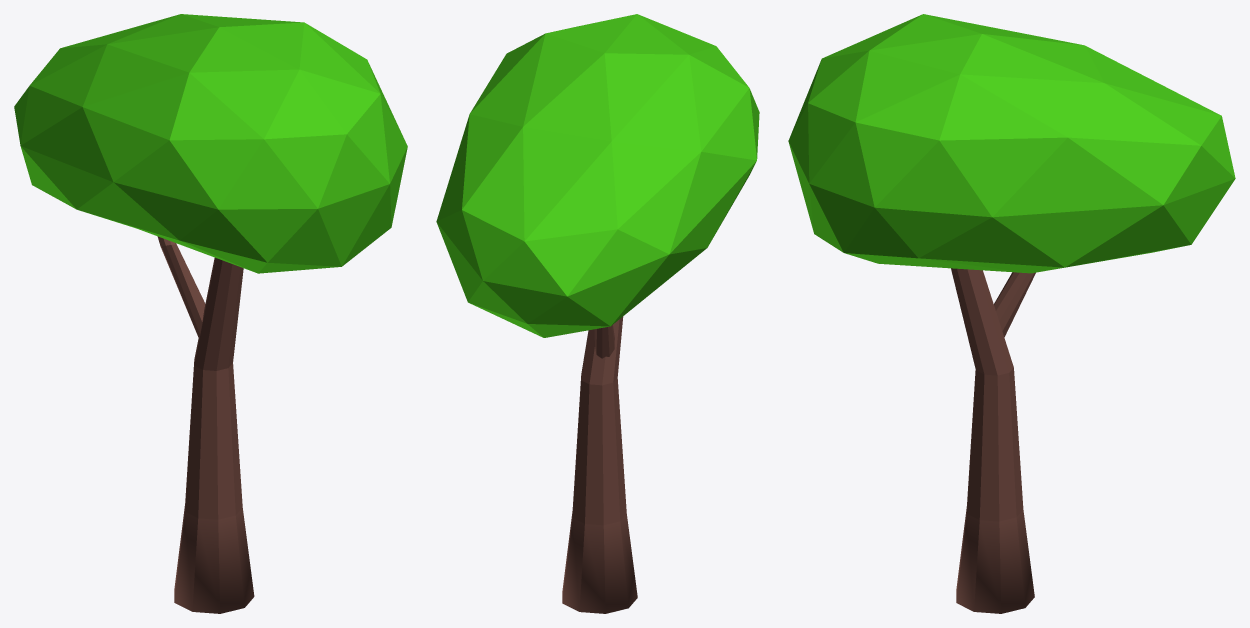
Rendered from Tree 2.fbx.
3 renders of one model, left to right at view 1: azimuth 30°, elevation 25°; view 2: azimuth 150°, elevation 25°; view 3: azimuth 270°, elevation 25°, orthographic. The views are drawn at different scales.
Visible parts, largest first — view 1: Tree 2; view 2: Tree 2; view 3: Tree 2.
Boxes of the visible parts, box(x1,y1,x2,y2) form: Tree 2: box(14, 14, 407, 613); Tree 2: box(436, 14, 759, 613); Tree 2: box(788, 14, 1235, 613).
Size of the model in its own units: 172 by 347 by 250.
